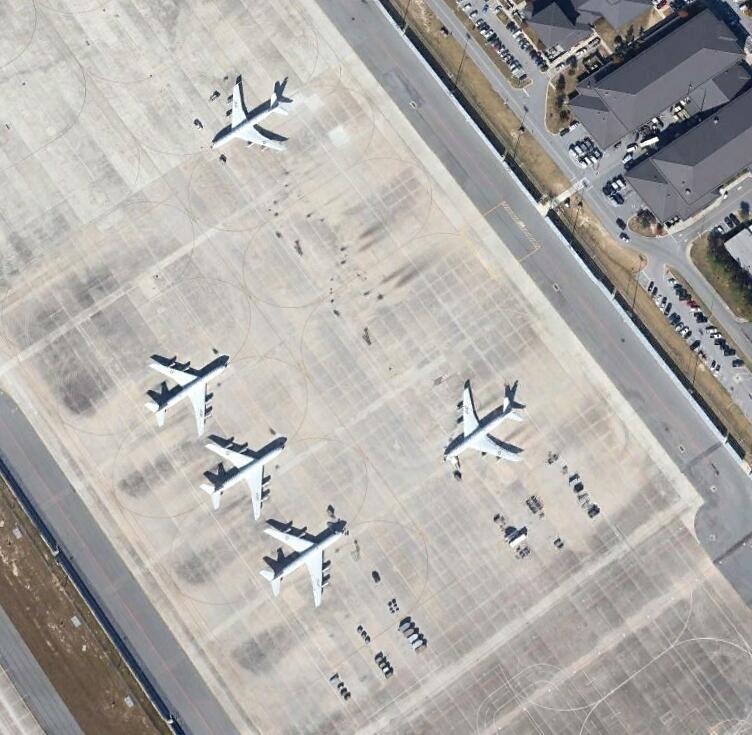A11: (261, 522, 348, 607), (146, 352, 230, 438), (201, 438, 287, 521), (441, 386, 527, 467), (211, 81, 292, 154)
